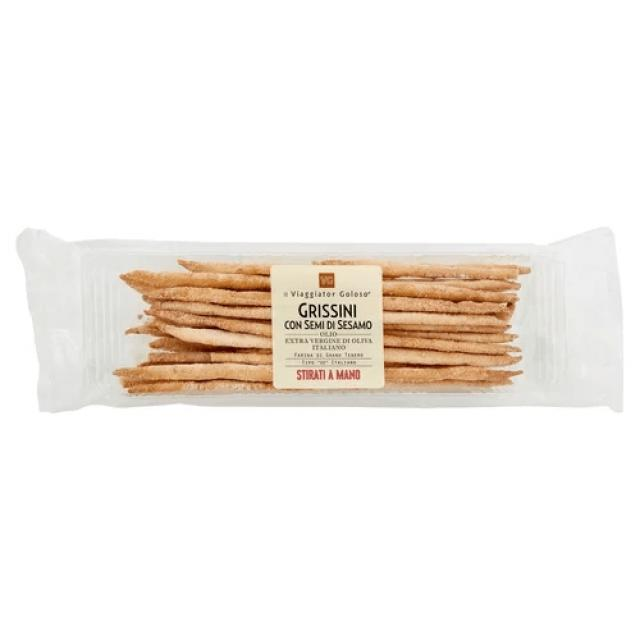bread: (17, 227, 625, 416)
